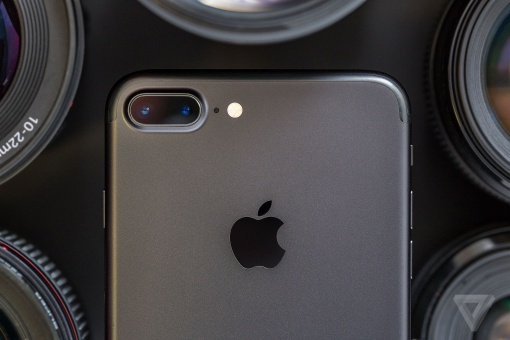apple: (217, 183, 298, 280)
